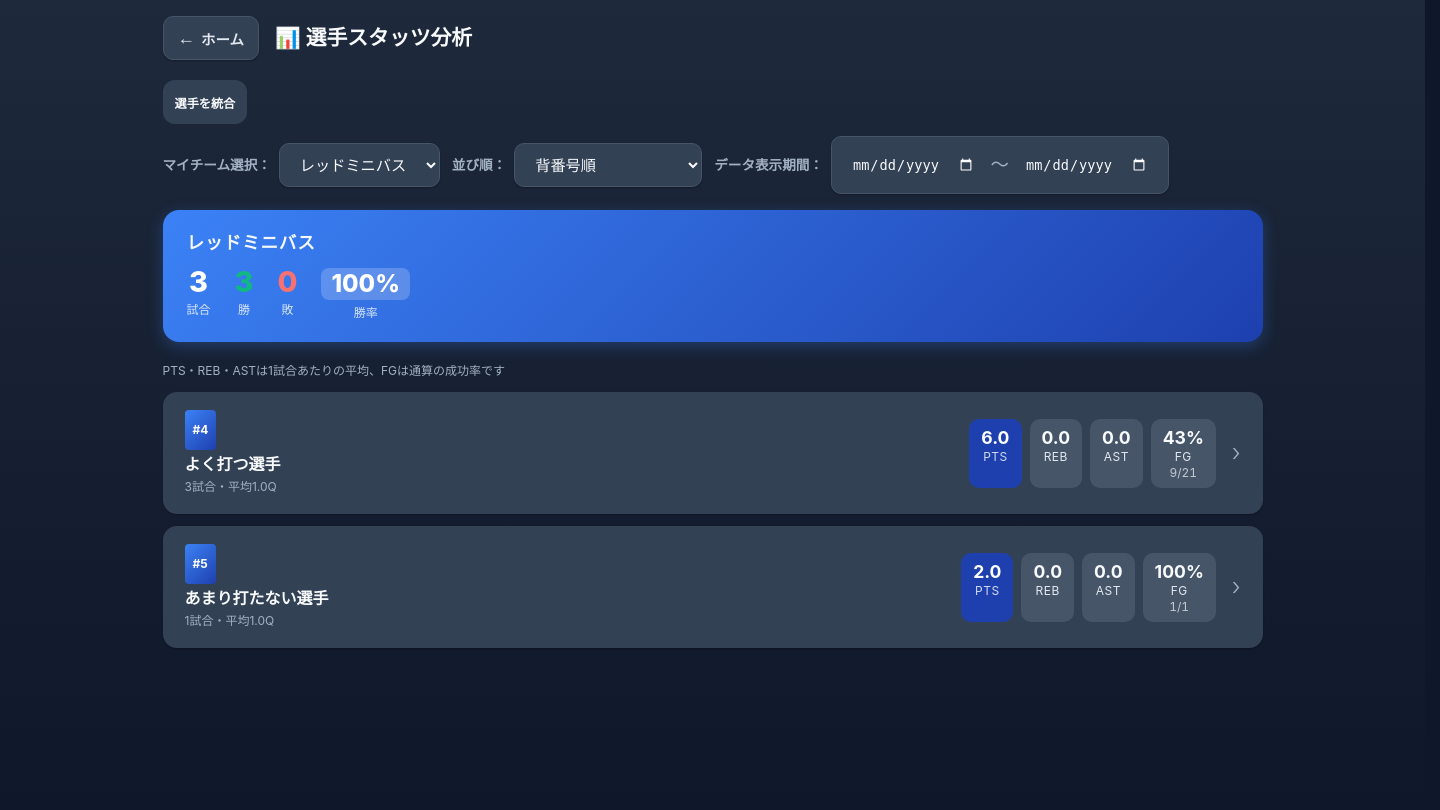
Test case: FG%順の注記 › 別の並び順に戻すと消える
This screenshot has width=1440, height=810.
Select "FG%が高い順" in the dropdown labelled "並び順：". click: x=608, y=165
box: x1=514 y1=143 x2=702 y2=187
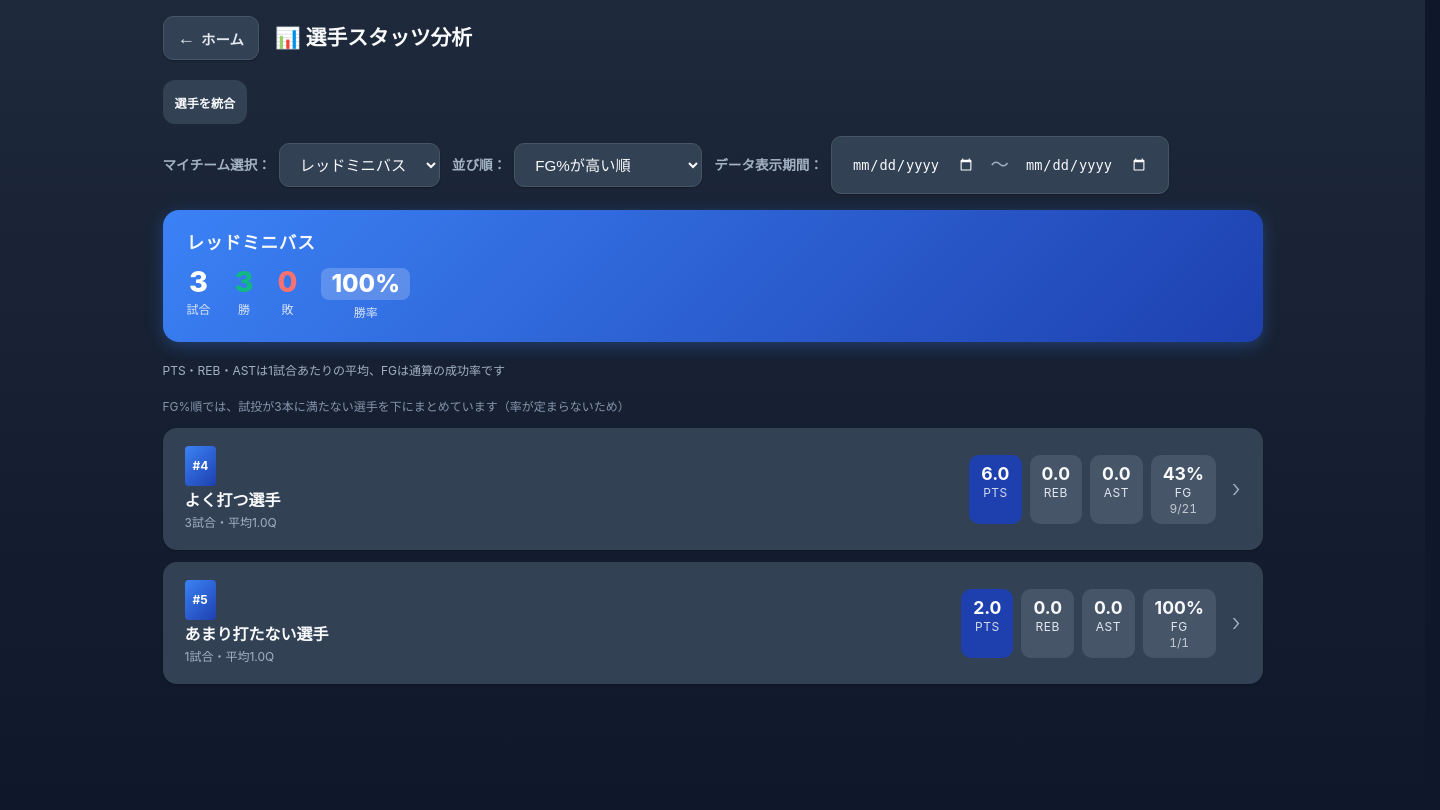
Select "平均得点が多い順" in the dropdown labelled "並び順：". click: x=608, y=165
box: x1=514 y1=143 x2=702 y2=187
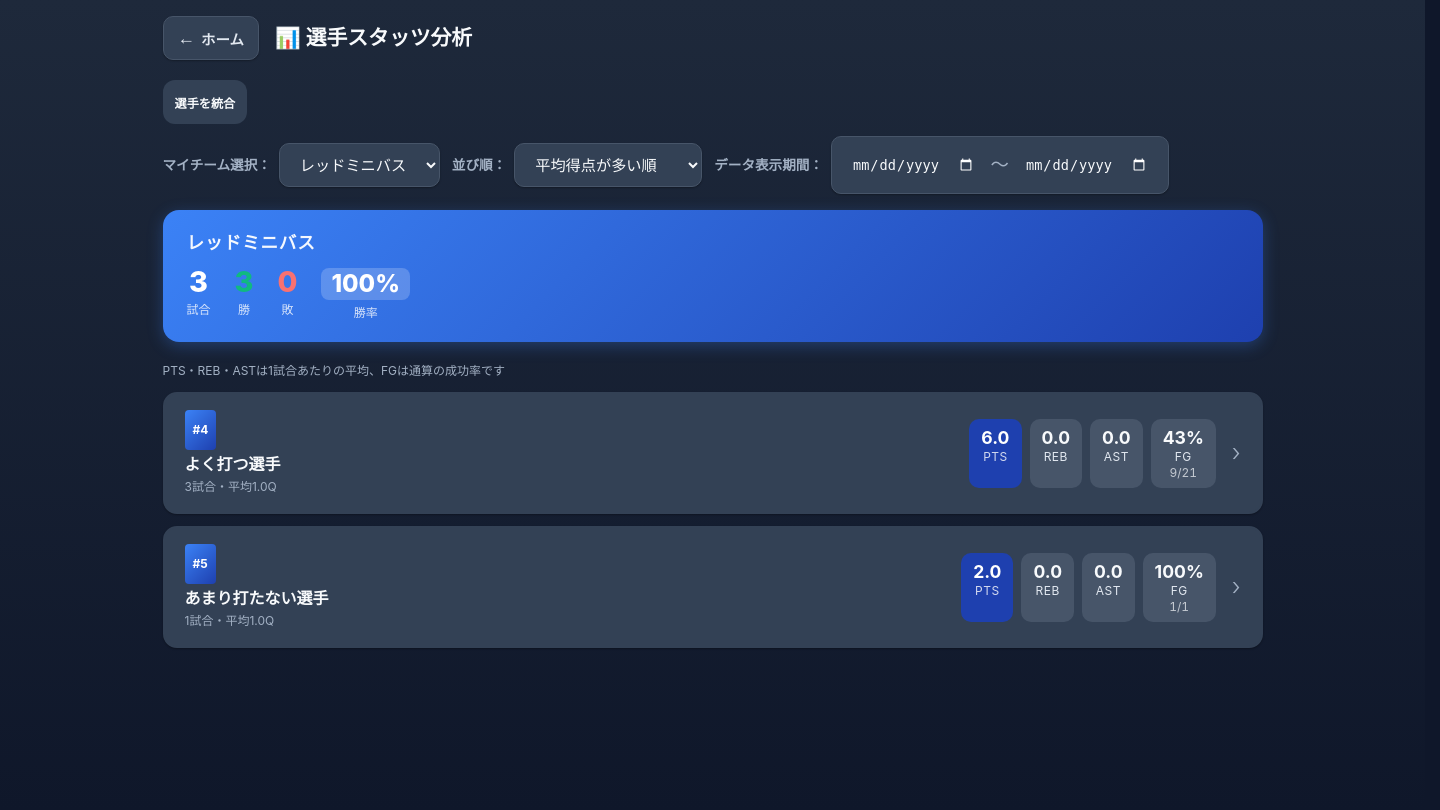
Check: the text "FG%順では" is gone
